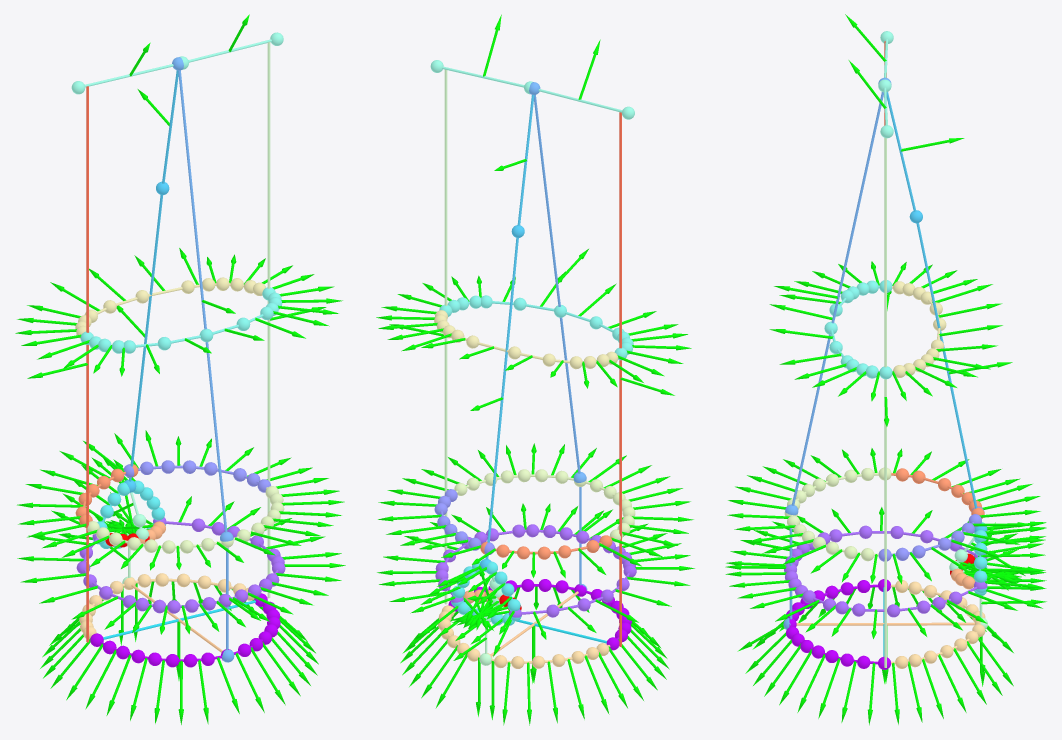
The model's file is t2f_toothpaste.gltf.
3 renders of one model, left to right at view 1: azimuth 30°, elevation 25°; view 2: azimuth 150°, elevation 25°; view 3: azimuth 270°, elevation 25°, orthographic. The views are drawn at different scales.
Size of the model in its own units: 0.5054 by 1.08 by 0.486.
